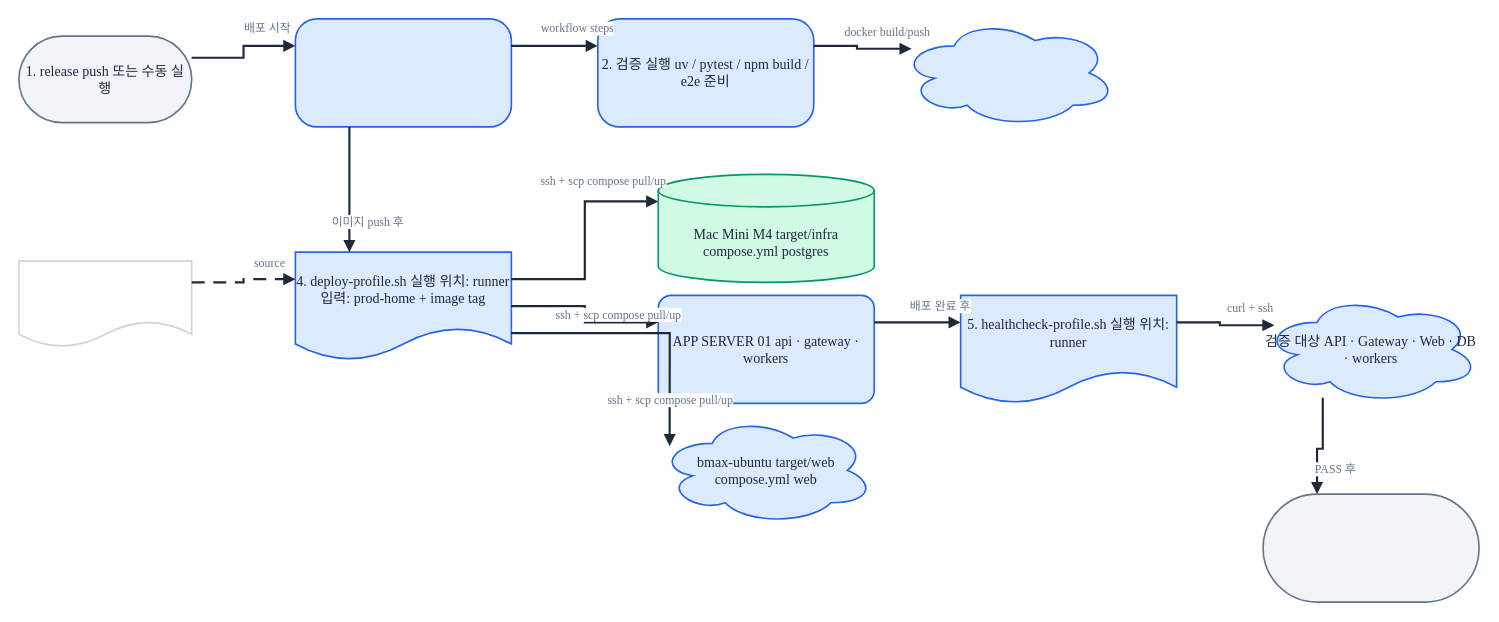
The diagram is 1499 pixels wide and 622 high, and some of its shapes have lost their labels. Here are the shapes that lost their labels. From the top down, the box of each, then its label:
(294, 18, 512, 127): Mac Mini M4 GitHub Actions runner .github/workflows/deploy.yml
(899, 18, 1117, 127): 3. GHCR 이미지 api · worker · gateway · web · migrations
(18, 260, 192, 348): prod-home runner profile.env hosts.env
(1262, 493, 1479, 602): 6. npm run e2e 운영 URL 대상 app-server01 / bmax-ubuntu
